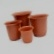plastic: (4, 10, 49, 42)
